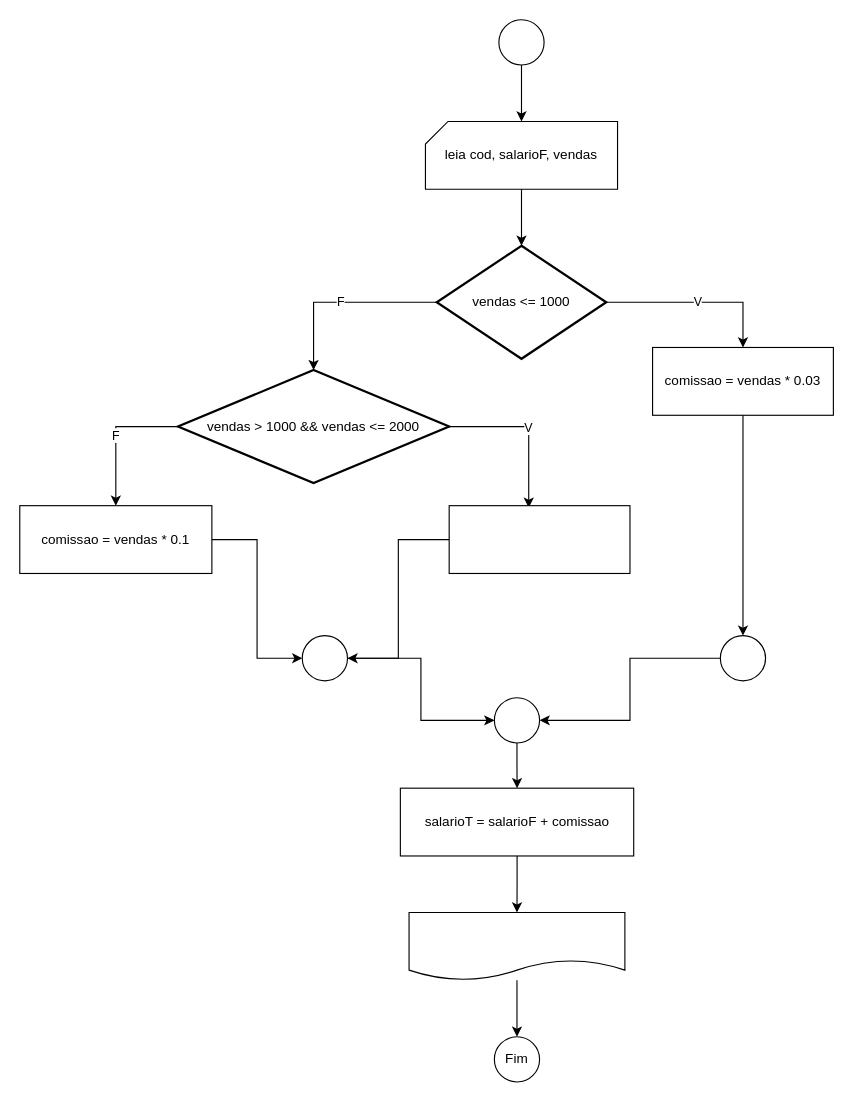
Image size: 853x1102. Some labels were removed from this diagram. The box of each missing label's shape, as (x1, y1, x2, y2) in pixels:
comissao = vendas * 0.05: (448, 505, 630, 573)
escreva "cod, vendas, salarioF, salarioT: (408, 911, 625, 980)
Inicio: (498, 19, 544, 65)
